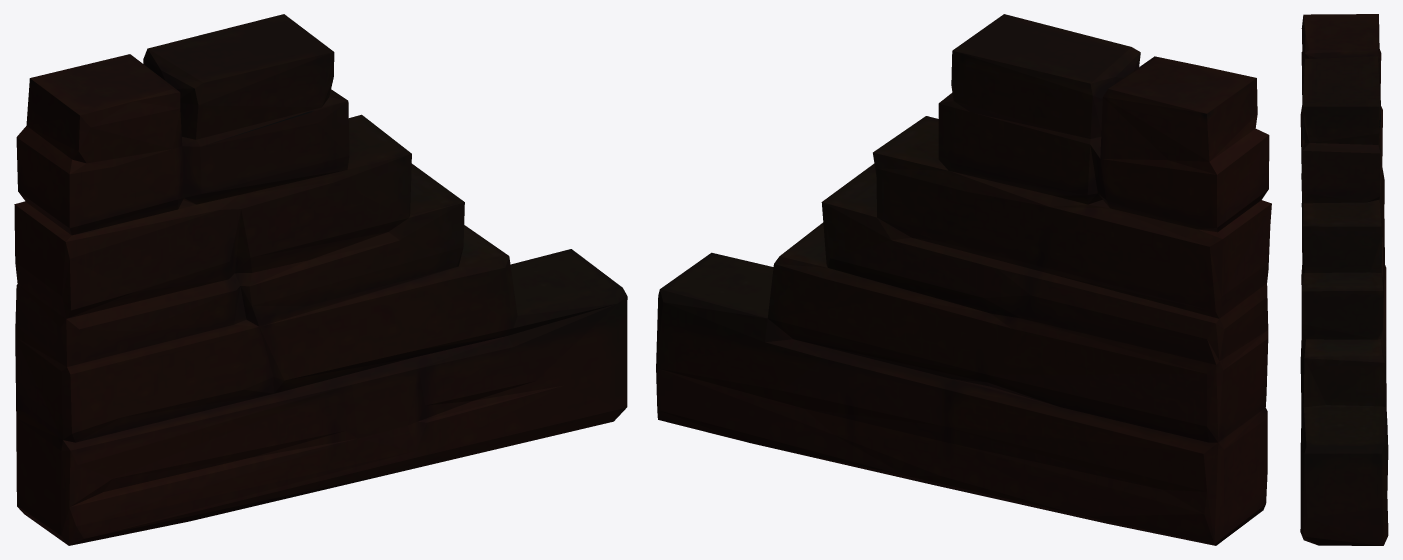
3 renders of one model, left to right at view 1: azimuth 30°, elevation 25°; view 2: azimuth 150°, elevation 25°; view 3: azimuth 270°, elevation 25°, orthographic. The views are drawn at different scales.
Visible parts, largest first — view 1: geometry_0.038_Baked; view 2: geometry_0.038_Baked; view 3: geometry_0.038_Baked.
Boxes of the visible parts, x1,y1,x2,y2 form: geometry_0.038_Baked: (14, 14, 627, 545); geometry_0.038_Baked: (656, 14, 1271, 545); geometry_0.038_Baked: (1300, 14, 1388, 545).
Bounding box in the file's own units: 22.22 × 16.71 × 3.98.
